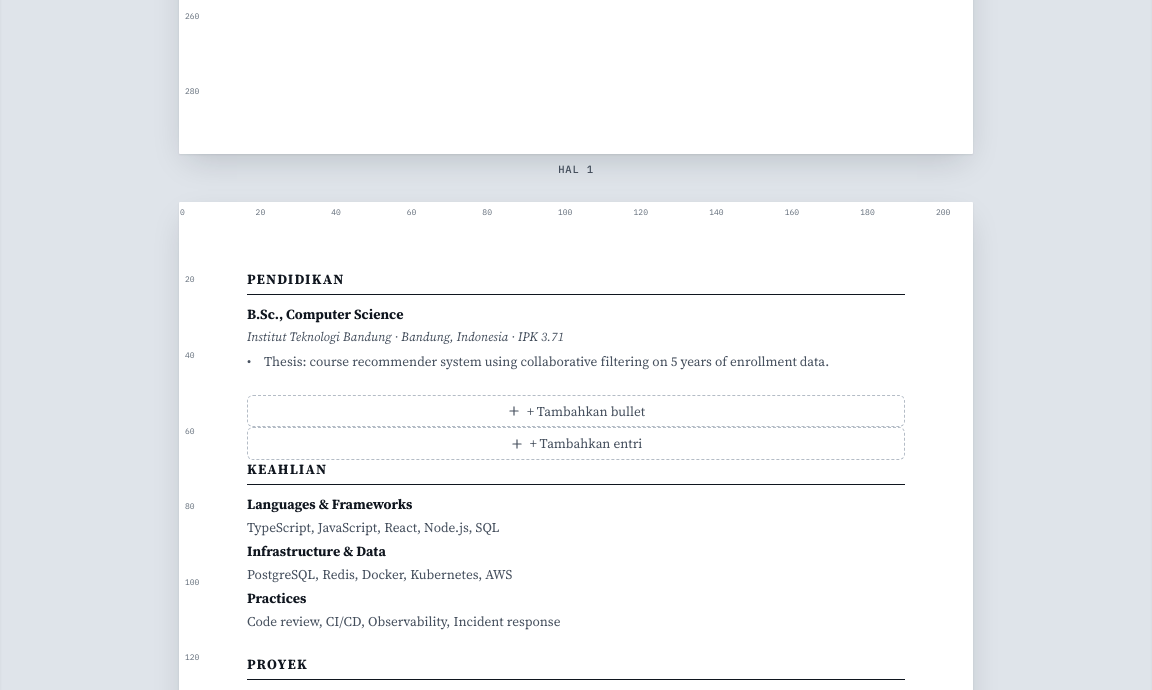
Test case: bullet editable di kertas (C4.3) › bullet entri pendidikan menulis array notes
This screenshot has width=1152, height=690.
(page scrolled)
Click the button with aria-label "Ubah bullet: Thesis: course recommender system using collabo": click(547, 361) [264,351,829,370]
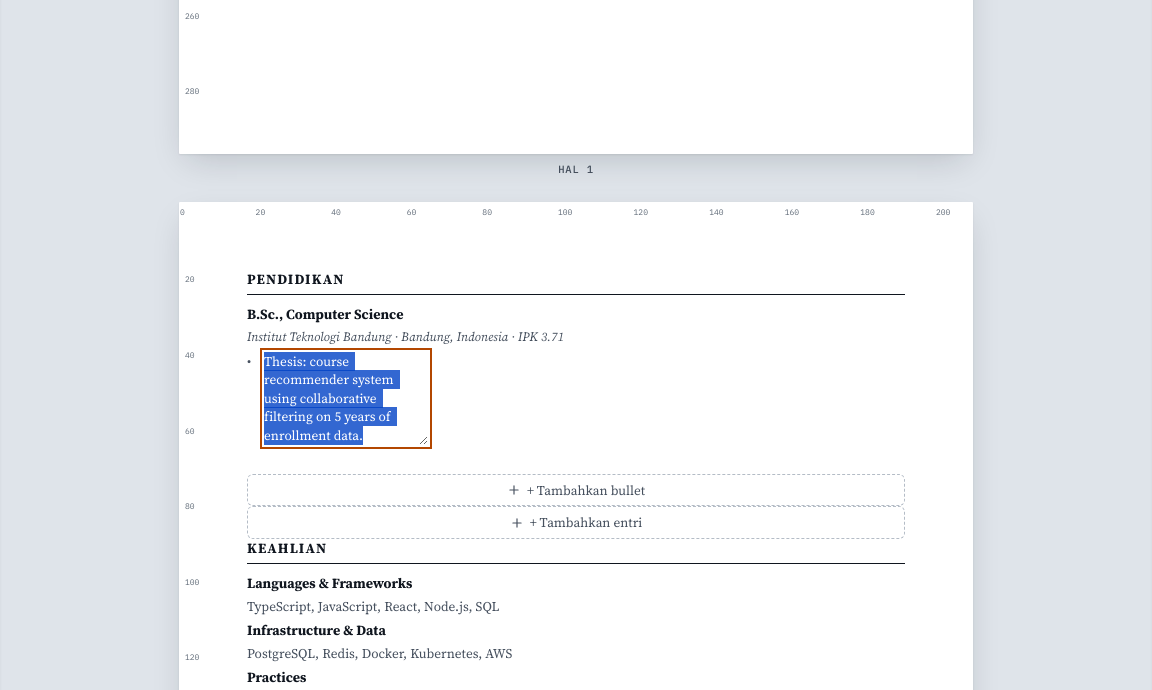
expect the text box with class "canvas-editor" is shown: met
Clear the text box with class "canvas-editor": (346, 398) [264,351,428,444]
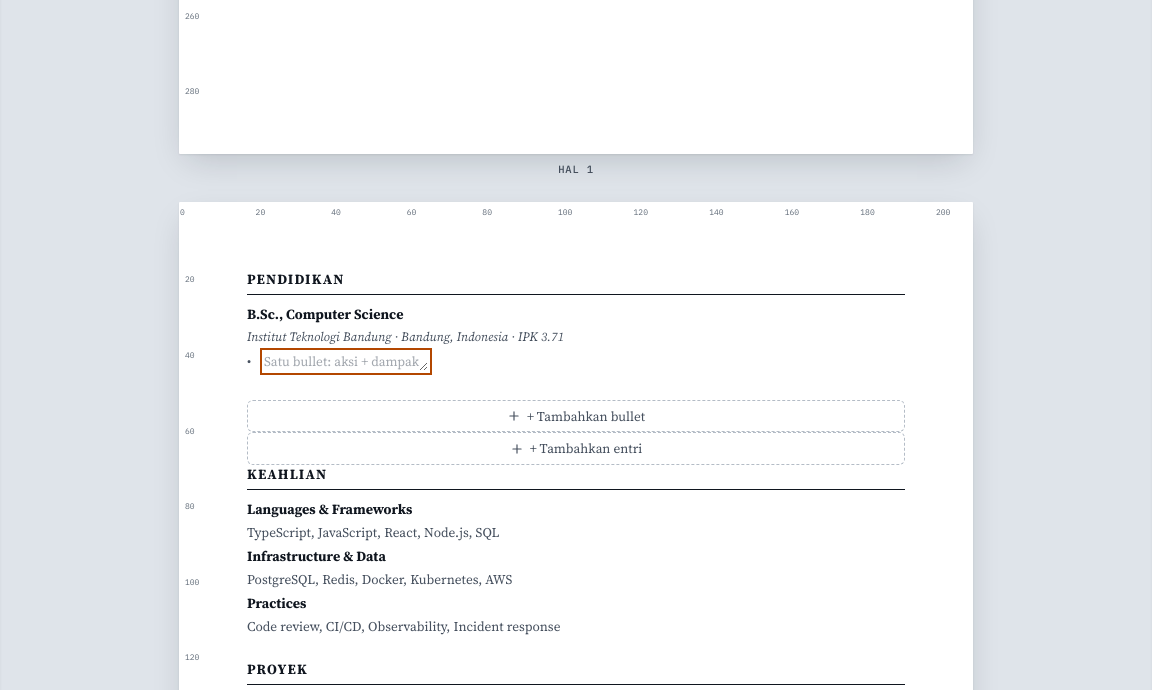
In the text box with class "canvas-editor": (346, 361) [264,351,428,370], type "Skripsi tentang rekomendasi."
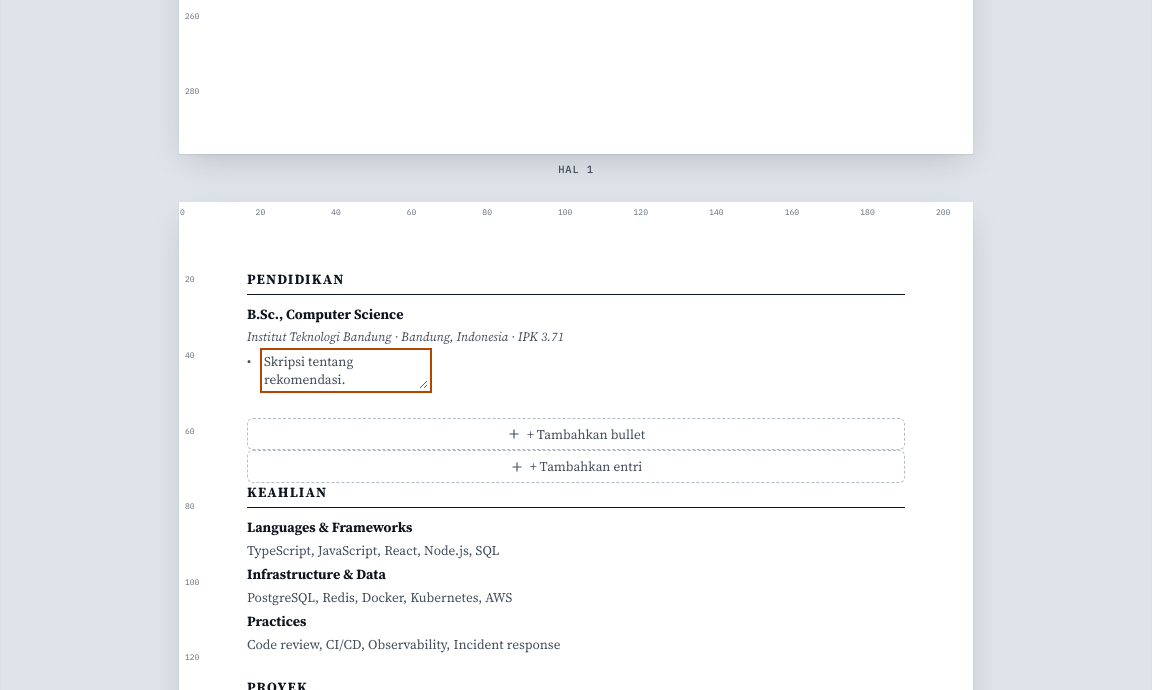
Press Enter
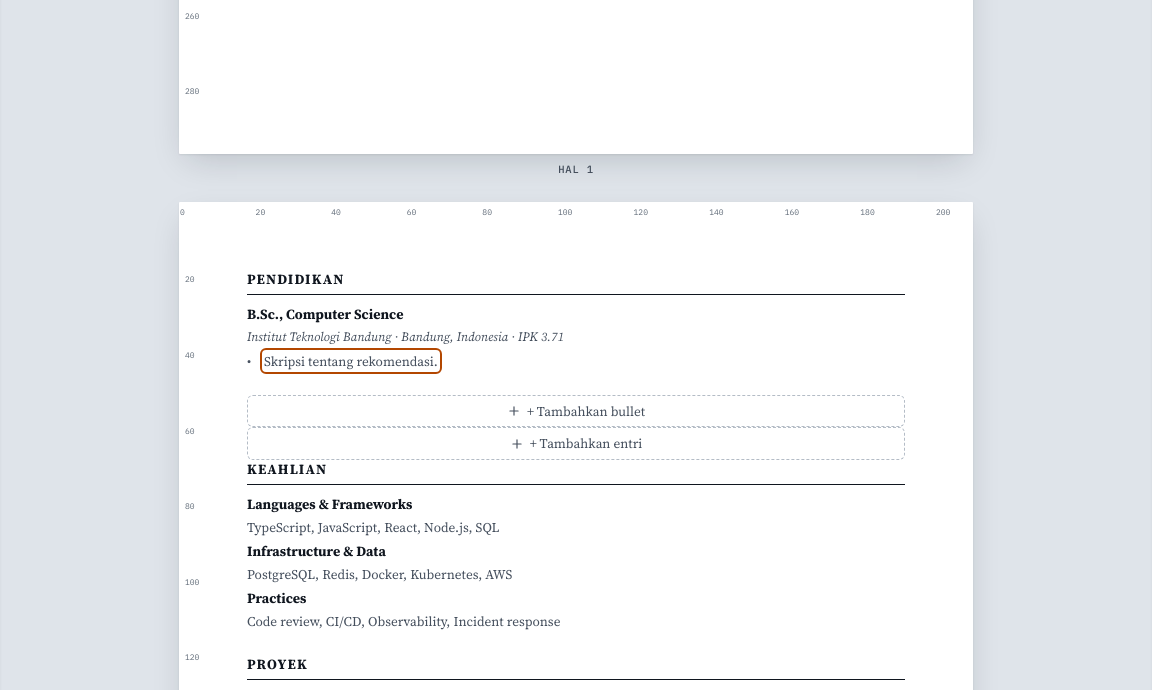
expect the text box with class "canvas-editor" is gone: met
expect the button "Skripsi tentang rekomendasi." is shown: met, box [264,351,438,370]
